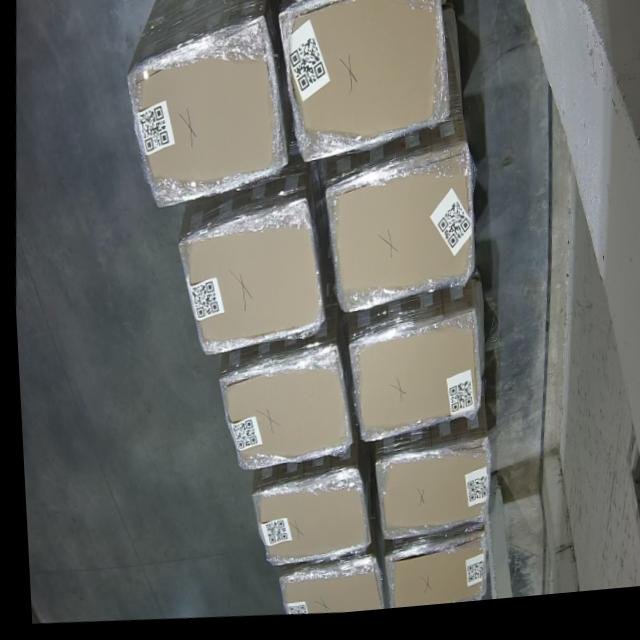pallet: (122, 15, 287, 215), (276, 0, 453, 174), (323, 152, 474, 320), (172, 205, 324, 366), (345, 313, 478, 446), (213, 349, 347, 479), (244, 475, 363, 572), (373, 445, 486, 547), (380, 541, 481, 615), (273, 565, 376, 619)
